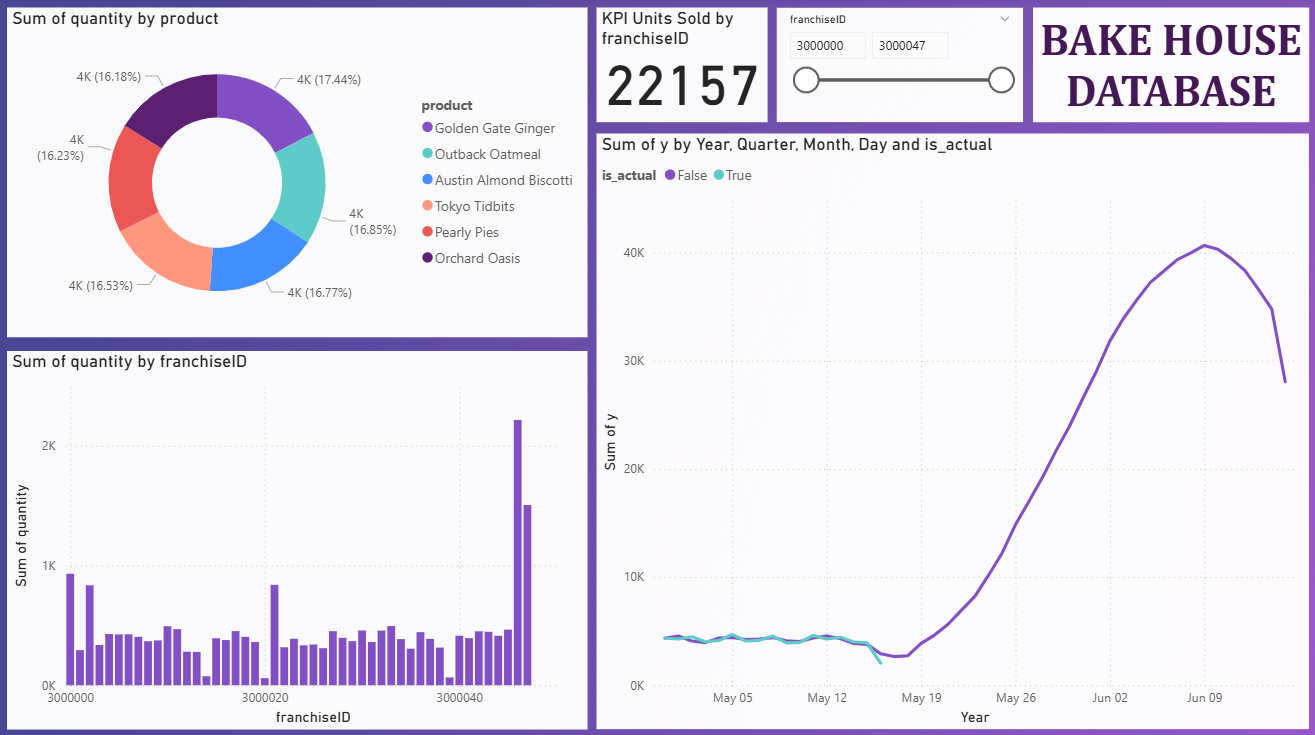

The dashboard page shown, as its layout file describes it:
{"tool":"powerbi","page":{"name":"Bake House","canvas":[1280,720],"ordinal":1},"visuals":[{"type":"donutChart","fields":{"Category":["`samples` `bakehouse` `sales_transactions`.product"],"Y":["Sum(`samples` `bakehouse` `sales_transactions`.quantity)"]},"box":[9,10,563,320],"z":0},{"type":"kpi","fields":{"Indicator":["select","`samples` `bakehouse` `media_customer_reviews`.KPI Units Sold"],"TrendLine":["`samples` `bakehouse` `media_customer_reviews`.franchiseID"]},"box":[581,10,166,111],"z":1000},{"type":"clusteredColumnChart","fields":{"Category":["`samples` `bakehouse` `sales_transactions`.franchiseID"],"Y":["Sum(`samples` `bakehouse` `sales_transactions`.quantity)"]},"box":[9,343,563,367],"z":2000},{"type":"textbox","box":[1004,10,268,111],"z":3000},{"type":"lineChart","fields":{"Category":["BakeHouse (2).ds.Variation.Date Hierarchy.Year","BakeHouse (2).ds.Variation.Date Hierarchy.Quarter","BakeHouse (2).ds.Variation.Date Hierarchy.Month","BakeHouse (2).ds.Variation.Date Hierarchy.Day"],"Y":["Sum(BakeHouse (2).y)"],"Series":["BakeHouse (2).is_actual"]},"box":[581,132,691,578],"z":4000},{"type":"slicer","fields":{"Values":["`samples` `bakehouse` `sales_transactions`.franchiseID"]},"box":[756,10,239,111],"z":5000}]}

Visuals, with their boxes in screenshot pixels (x1, y1, x2, y2), scaled from the page's 1280x720 canvas onto the 1315x735 screenshot:
donutChart - `samples` `bakehouse` `sales_transactions`.product x Sum(`samples` `bakehouse` `sales_transactions`.quantity): (9,10,588,337)
kpi - select x `samples` `bakehouse` `media_customer_reviews`.KPI Units Sold: (597,10,767,124)
clusteredColumnChart - `samples` `bakehouse` `sales_transactions`.franchiseID x Sum(`samples` `bakehouse` `sales_transactions`.quantity): (9,350,588,725)
textbox: (1031,10,1307,124)
lineChart - BakeHouse (2).ds.Variation.Date Hierarchy.Year x BakeHouse (2).ds.Variation.Date Hierarchy.Quarter: (597,135,1307,725)
slicer - `samples` `bakehouse` `sales_transactions`.franchiseID: (777,10,1022,124)
